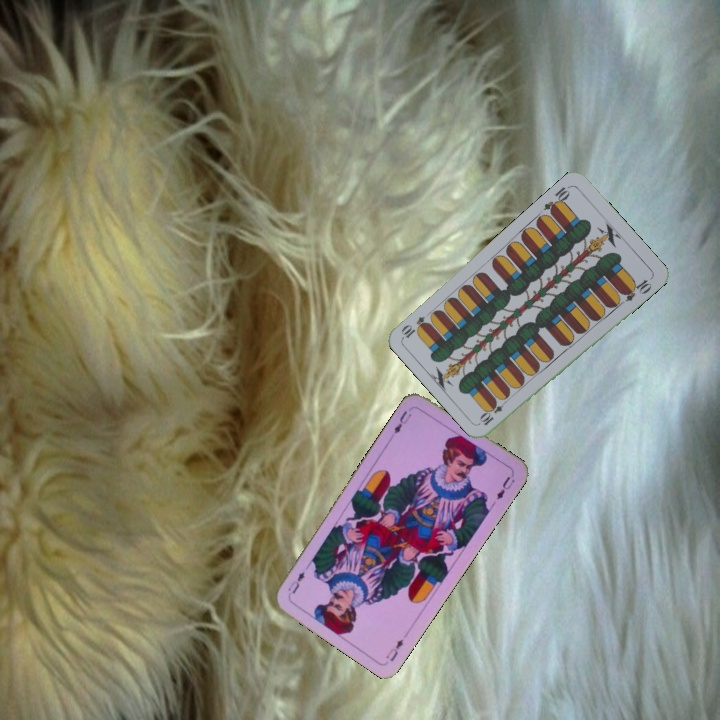E10: (476, 394, 511, 428), (540, 182, 573, 217)
EU: (389, 407, 414, 436), (381, 635, 406, 664)
